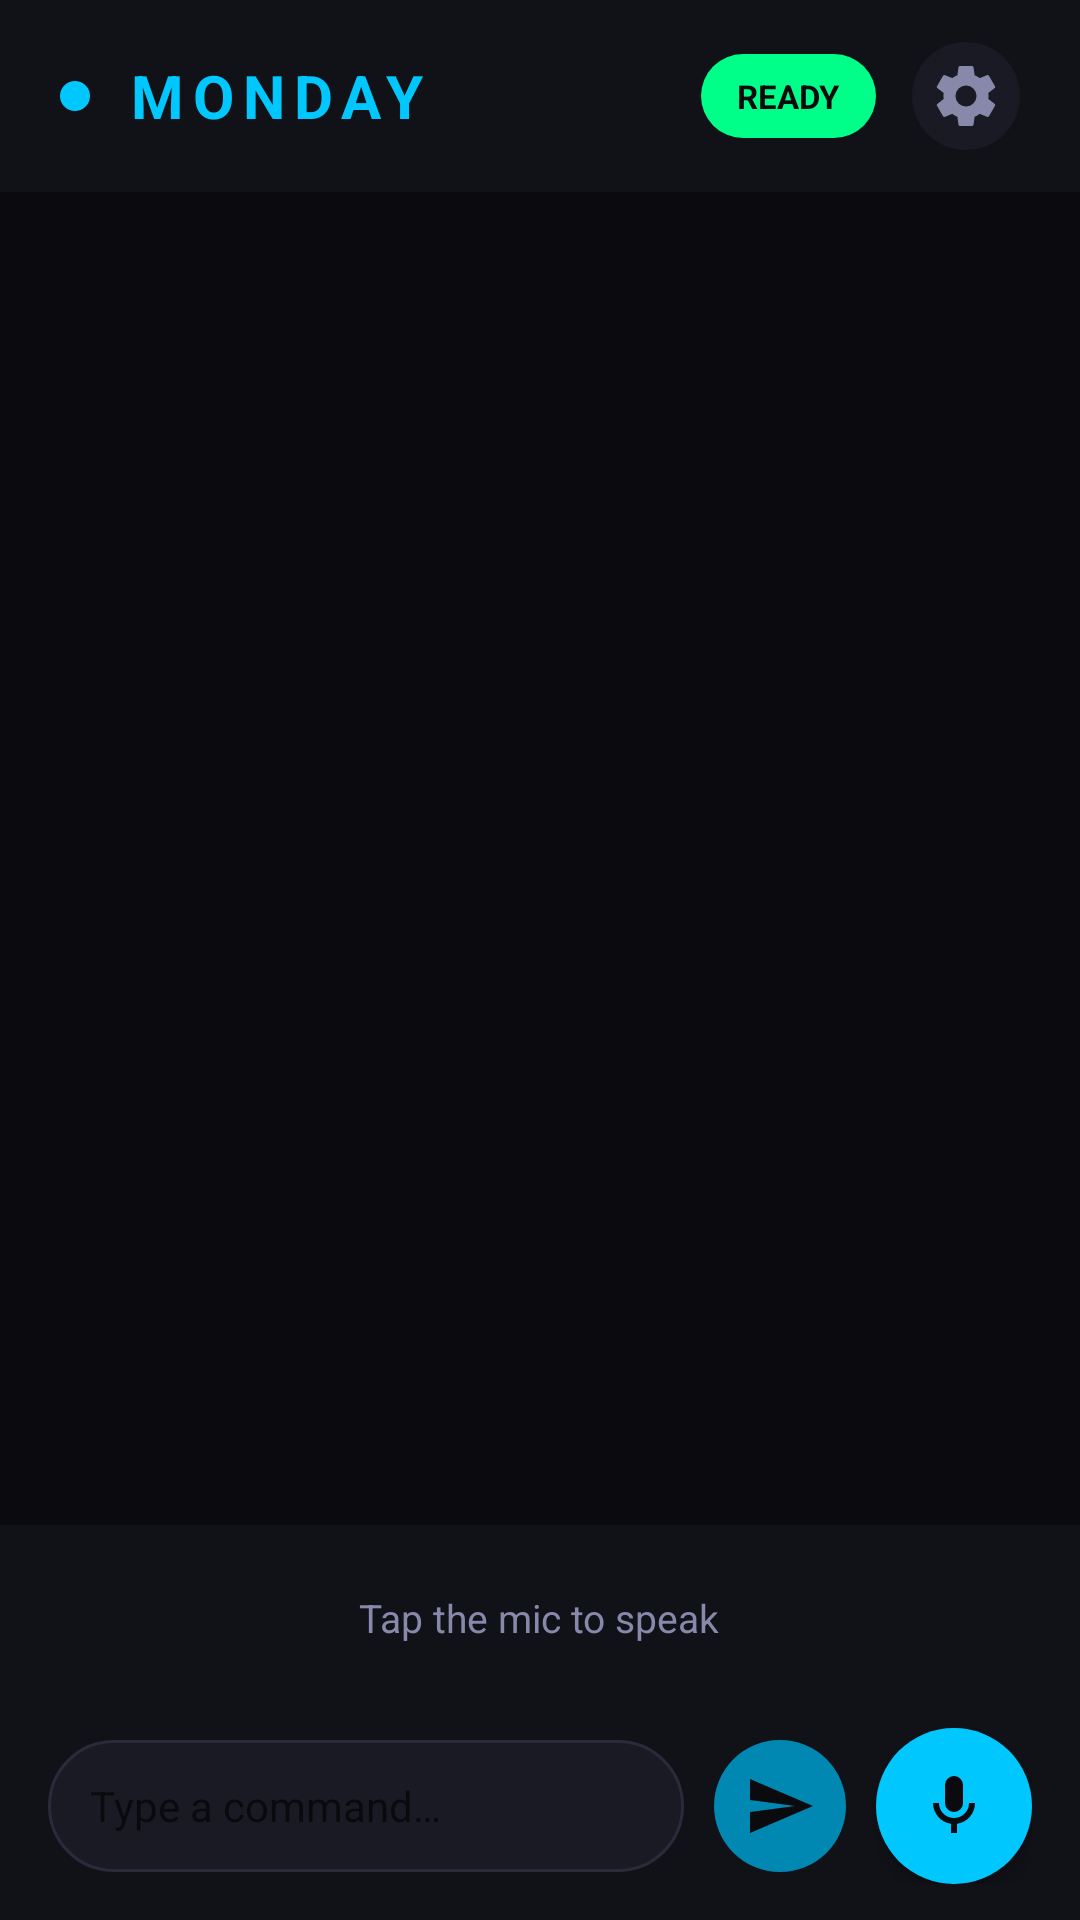

Icons on this 1080w x 1920h Android screen, each with the point to tap as (x=x, y=y):
Send: (x=780, y=1806)
Settings: (x=965, y=96)
Speak: (x=954, y=1806)
